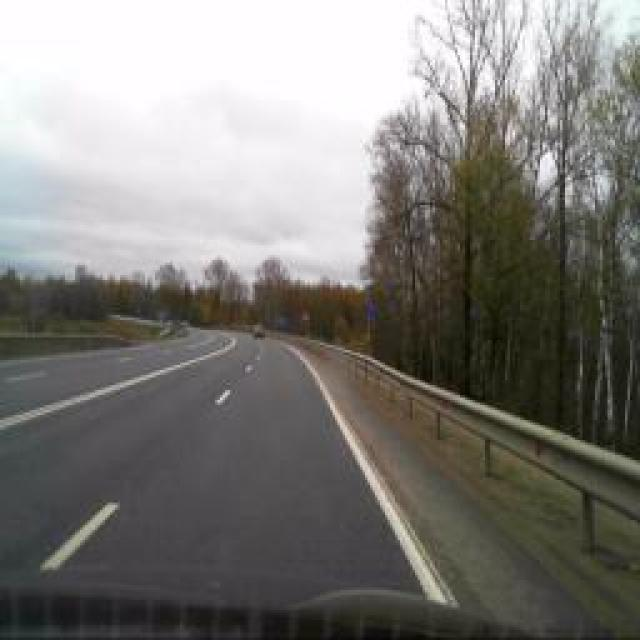sign: (364, 301, 376, 321)
